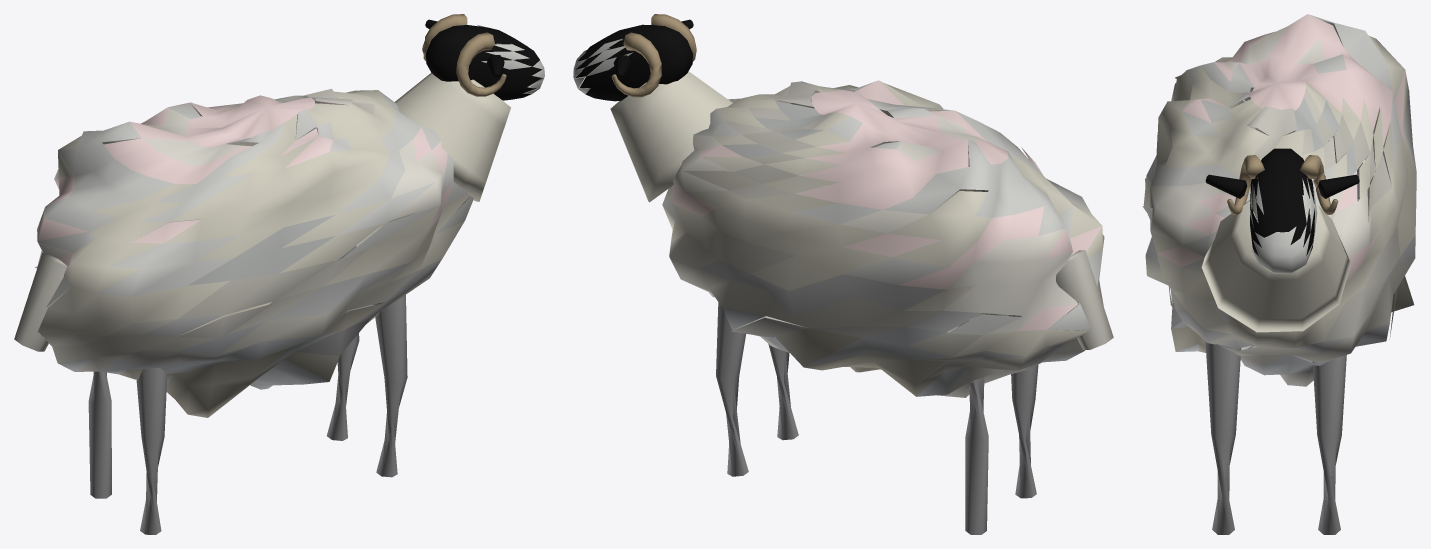
The model's file is animal.farm.sheep_lambb.glb.
3 views of the same model, side by side, from view 1: azimuth 30°, elevation 25°; view 2: azimuth 150°, elevation 25°; view 3: azimuth 270°, elevation 25° (orthographic). The views are drawn at different scales.
Visible parts, largest first — view 1: main__paint_ccb, main__paint_ccc, main__paint_bba, main__paint_999, main__paint_dcc, main__paint_bbb, main__paint_aa9, main__paint_aaa, main__rubber, main__paint_ddc, main__paint_cbb, main__paint_baa (+1 smaller); view 2: main__paint_ccb, main__paint_dcc, main__paint_ccc, main__paint_bba, main__paint_ddc, main__paint_999, main__paint_bbb, main__paint_cbb, main__rubber, main__paint_aa9, main__paint_aaa, main__paint_baa (+1 smaller); view 3: main__paint_ccb, main__paint_dcc, main__paint_ccc, main__paint_999, main__paint_ddc, main__rubber, main__paint_cbb, main__paint_bba, main__paint_bbb, main__paint_987, main__paint_aaa, main__paint_aa9 (+1 smaller).
Part boxes in pixels (<box>): main__paint_ccb: <box>38,73,510,335</box>; main__paint_ccc: <box>35,25,544,306</box>; main__paint_bba: <box>14,95,428,363</box>; main__paint_999: <box>88,246,407,534</box>; main__paint_dcc: <box>37,95,453,273</box>; main__paint_bbb: <box>143,97,442,336</box>; main__paint_aa9: <box>119,302,385,417</box>; main__paint_aaa: <box>58,290,406,389</box>; main__rubber: <box>425,19,542,100</box>; main__paint_ddc: <box>37,107,446,267</box>; main__paint_cbb: <box>40,88,426,346</box>; main__paint_baa: <box>75,231,374,371</box>; main__paint_ccb: <box>610,71,1104,356</box>; main__paint_dcc: <box>672,80,1102,331</box>; main__paint_ccc: <box>573,38,1102,335</box>; main__paint_bba: <box>669,128,1113,370</box>; main__paint_ddc: <box>673,100,1077,333</box>; main__paint_999: <box>716,302,1038,534</box>; main__paint_bbb: <box>700,101,1077,369</box>; main__paint_cbb: <box>669,81,1077,369</box>; main__rubber: <box>575,19,693,101</box>; main__paint_aa9: <box>775,313,999,396</box>; main__paint_aaa: <box>709,292,1083,396</box>; main__paint_baa: <box>682,280,1084,397</box>; main__paint_ccb: <box>1143,35,1416,348</box>; main__paint_dcc: <box>1157,14,1407,280</box>; main__paint_ccc: <box>1142,14,1416,322</box>; main__paint_999: <box>1171,303,1346,534</box>; main__paint_ddc: <box>1150,26,1379,256</box>; main__rubber: <box>1205,148,1359,255</box>; main__paint_cbb: <box>1144,87,1400,346</box>; main__paint_bba: <box>1145,87,1414,362</box>; main__paint_bbb: <box>1145,97,1415,353</box>; main__paint_987: <box>1227,155,1338,214</box>; main__paint_aaa: <box>1170,288,1389,375</box>; main__paint_aa9: <box>1169,276,1414,352</box>.
Size of the model in its own units: 1.47 by 1.07 by 0.6221.
